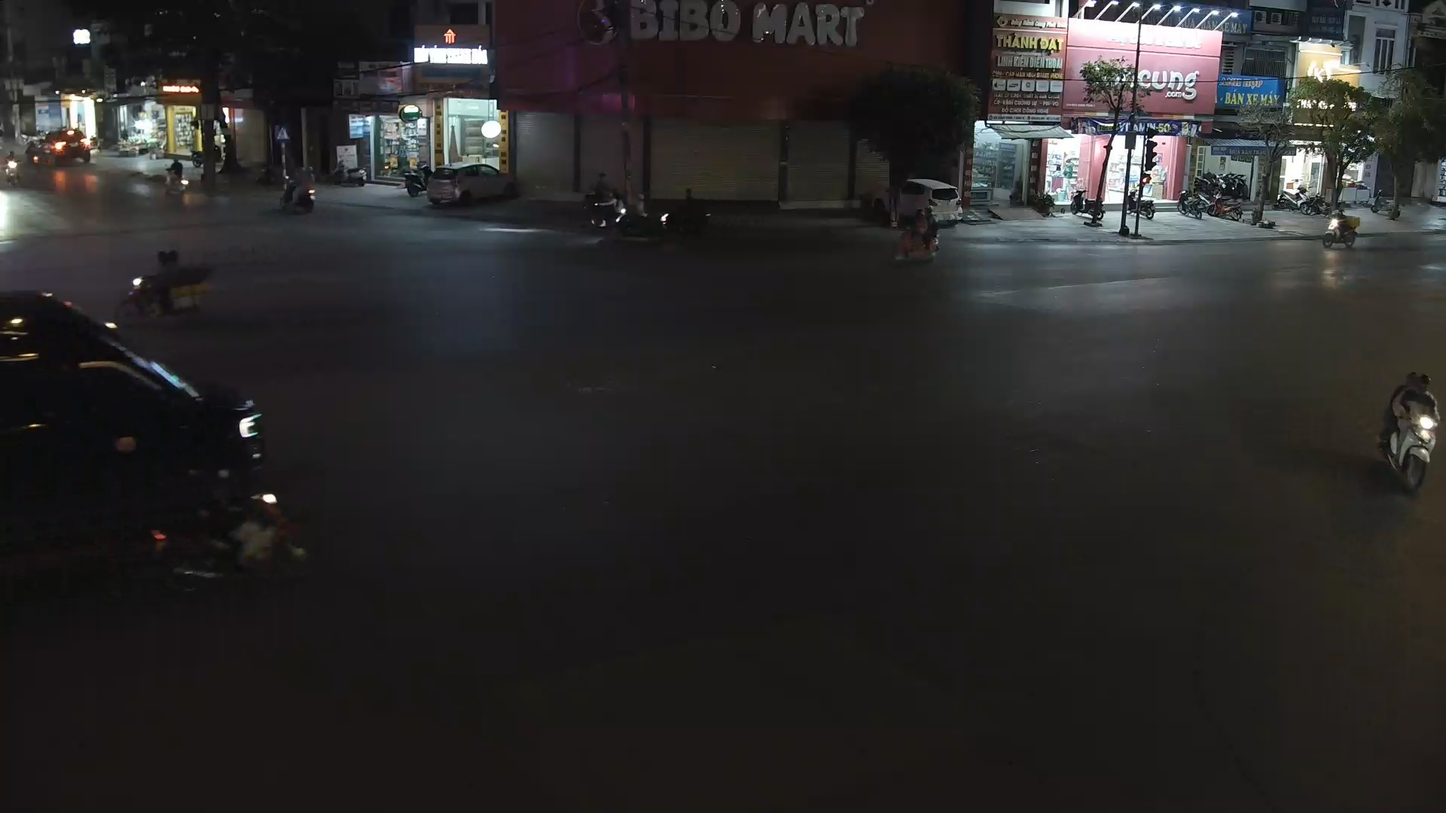motorbike: (108, 243, 214, 326), (1374, 368, 1442, 494), (890, 217, 941, 264)
